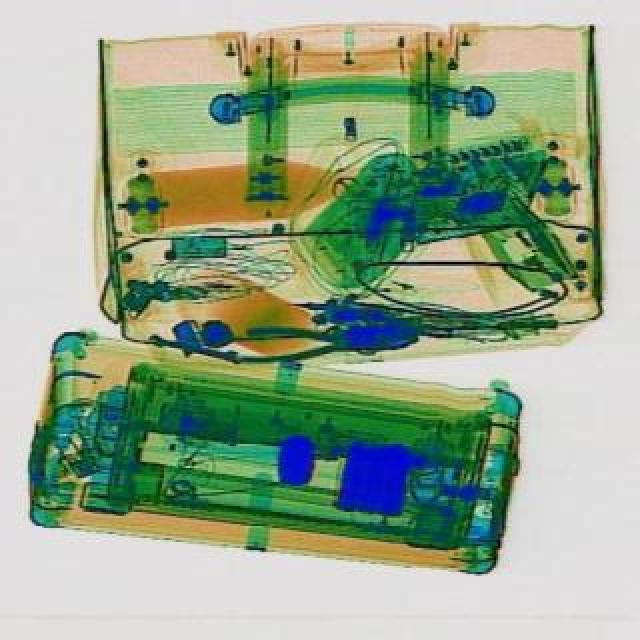scissors: (144, 332, 240, 366)
wrench: (238, 316, 418, 364)
